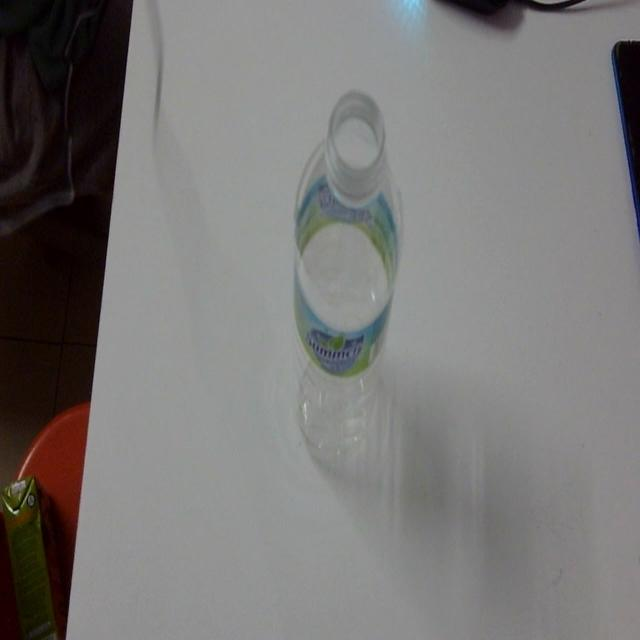plastic_standrotation: (283, 76, 417, 500)
